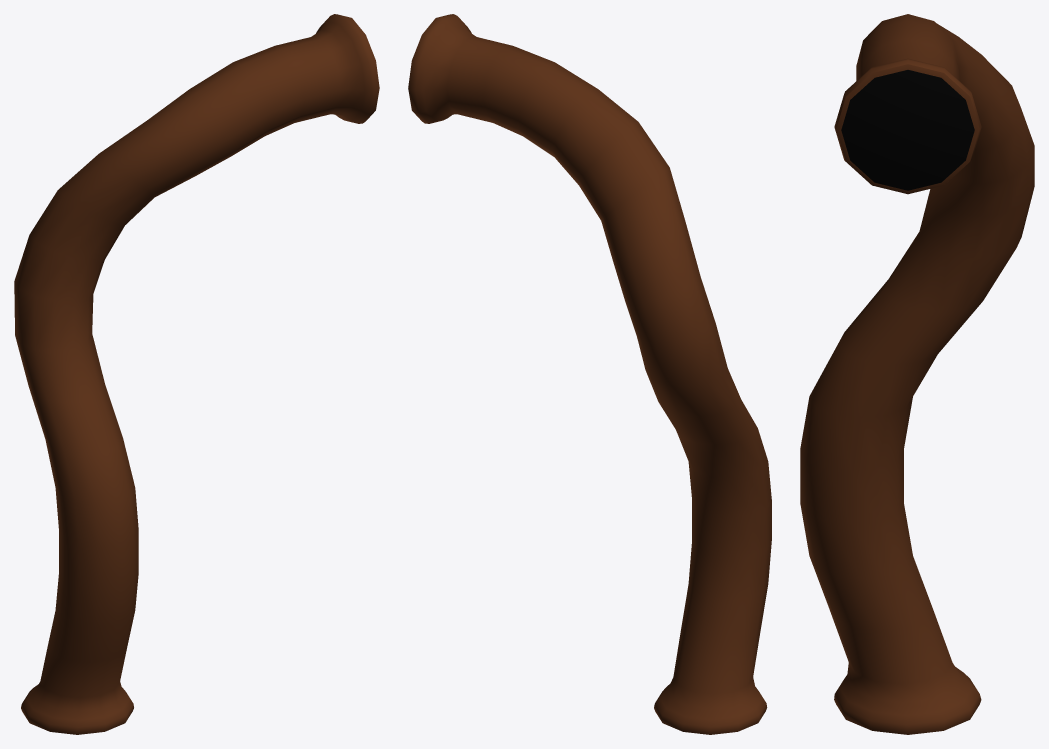
File: Pipe_Curve_2x2_4m_Bent.fbx
The picture shows the model from 3 angles, left to right: view 1: azimuth 30°, elevation 25°; view 2: azimuth 150°, elevation 25°; view 3: azimuth 270°, elevation 25°; orthographic projection. The views are drawn at different scales.
Parts seen in each view (by area): view 1: Pipe_Curve_2x2_4m_Bent; view 2: Pipe_Curve_2x2_4m_Bent; view 3: Pipe_Curve_2x2_4m_Bent.
Part boxes in pixels (bbox=[...]): Pipe_Curve_2x2_4m_Bent: bbox=[14, 14, 379, 734]; Pipe_Curve_2x2_4m_Bent: bbox=[408, 14, 771, 734]; Pipe_Curve_2x2_4m_Bent: bbox=[800, 14, 1034, 734].
Bounding box in the file's own units: 236 × 436 × 113.
